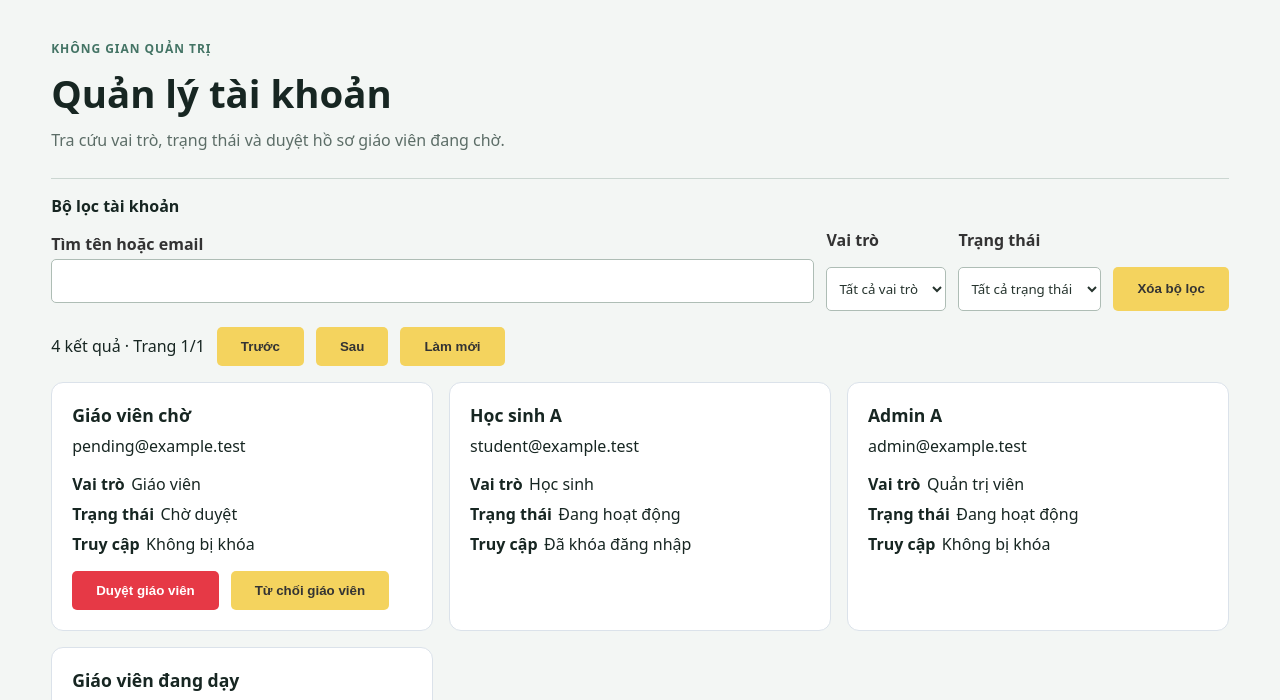
Test case: lỗi quyền khi đọc không để lộ thẻ danh sách cũ
Click the button "Làm mới": x=452, y=346 [400,327,504,366]
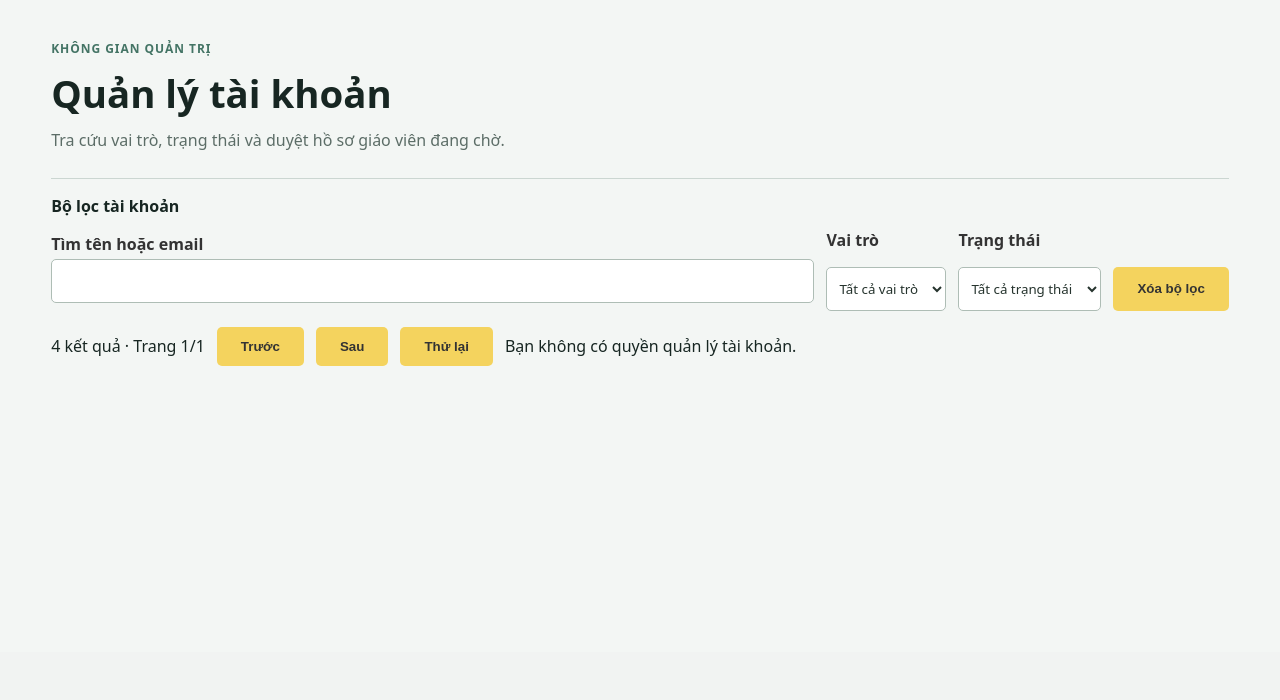
Expected: the element with class "account-card" is gone
